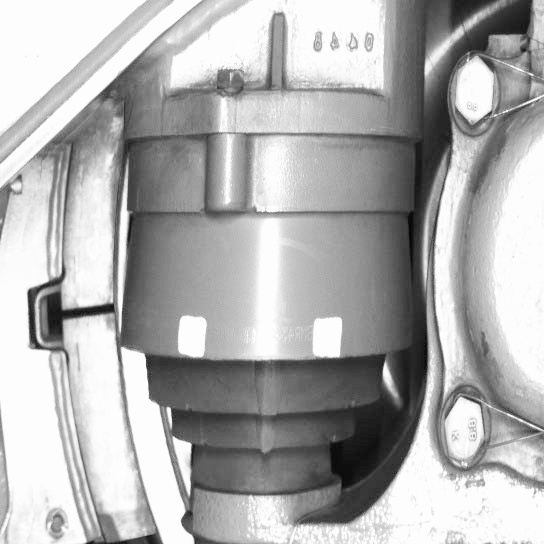ClosedKnifeSwitch: (46, 135, 171, 541)
